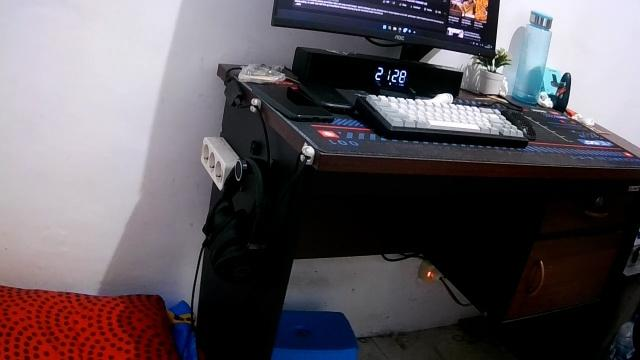AIO PC-Monitor-TV: (269, 0, 499, 58)
Meja: (194, 62, 639, 197)
